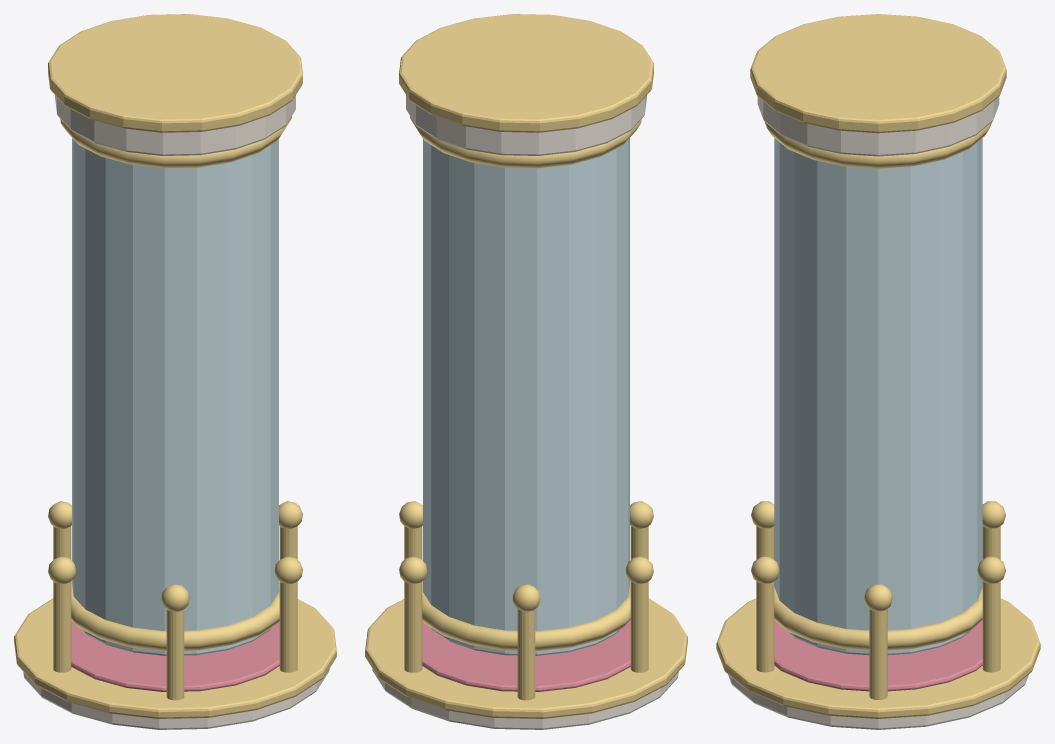
Rendered from opera_bubble_lift.glb.
3 renders of one model, left to right at view 1: azimuth 30°, elevation 25°; view 2: azimuth 150°, elevation 25°; view 3: azimuth 270°, elevation 25°, orthographic.
Visible parts, largest first — view 1: opera_bubble_lift.001; view 2: opera_bubble_lift.001; view 3: opera_bubble_lift.001.
Part boxes in pixels (<box>): opera_bubble_lift.001: <box>14,14,336,729</box>; opera_bubble_lift.001: <box>365,14,687,729</box>; opera_bubble_lift.001: <box>716,14,1040,729</box>.
Bounding box in the file's own units: 6.7 × 13.65 × 6.7.
